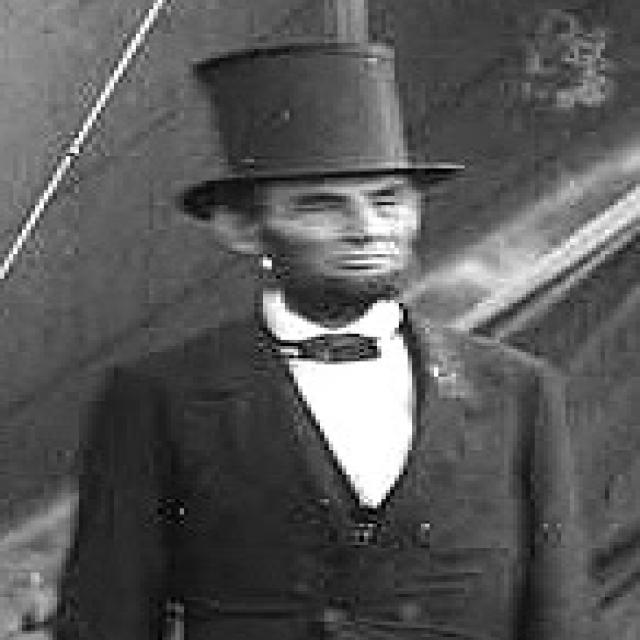hat: (184, 40, 460, 294)
